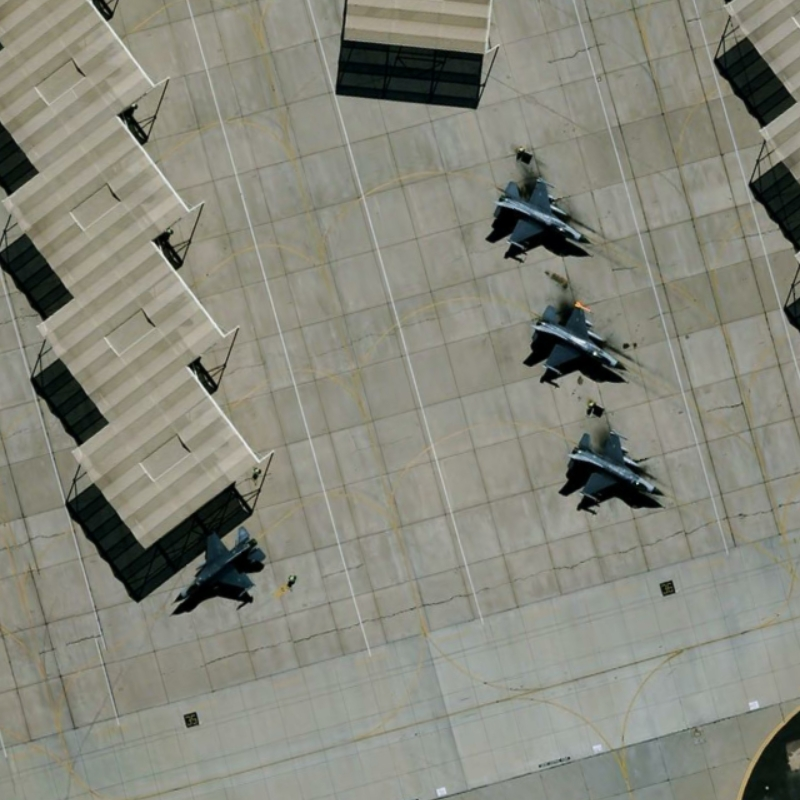A5: (483, 167, 594, 267), (554, 426, 673, 518), (165, 519, 274, 612), (522, 298, 630, 390)
